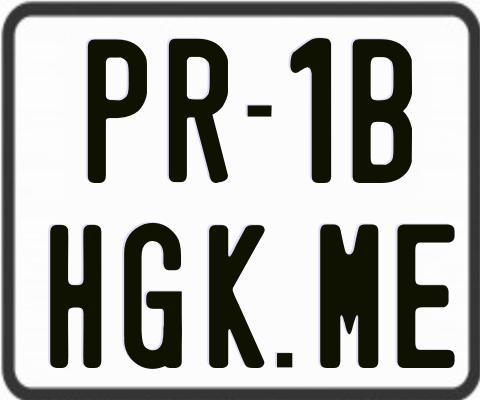1: (287, 36, 331, 181)
B: (353, 37, 414, 184)
E: (394, 221, 453, 366)
G: (123, 220, 184, 366)
H: (48, 222, 101, 371)
K: (207, 225, 264, 372)
M: (318, 222, 377, 367)
P: (85, 38, 146, 182)
R: (169, 38, 231, 184)
